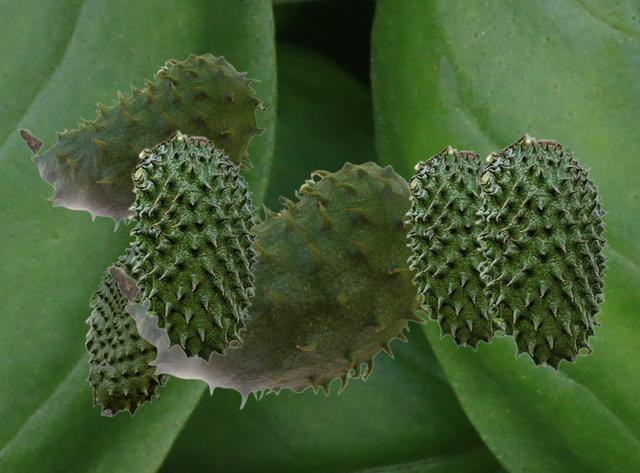guyabano: (107, 161, 435, 409), (18, 53, 265, 231), (474, 132, 610, 371), (127, 129, 260, 363), (404, 144, 503, 350), (84, 247, 171, 416)
